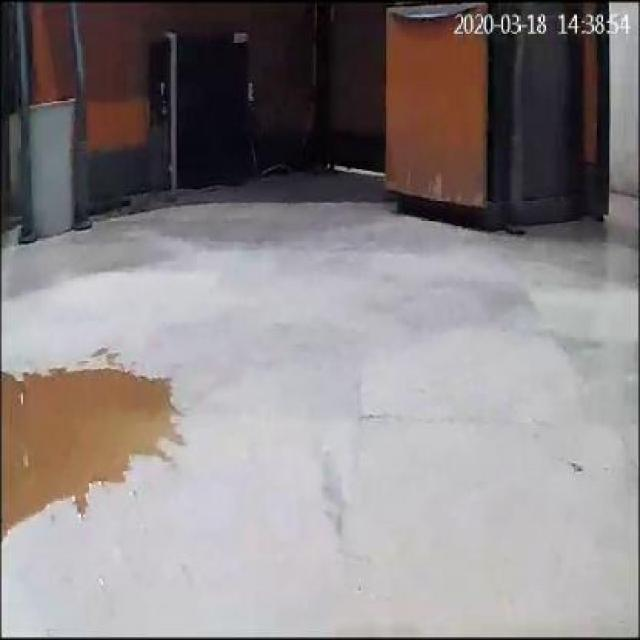spill: (4, 347, 180, 536)
